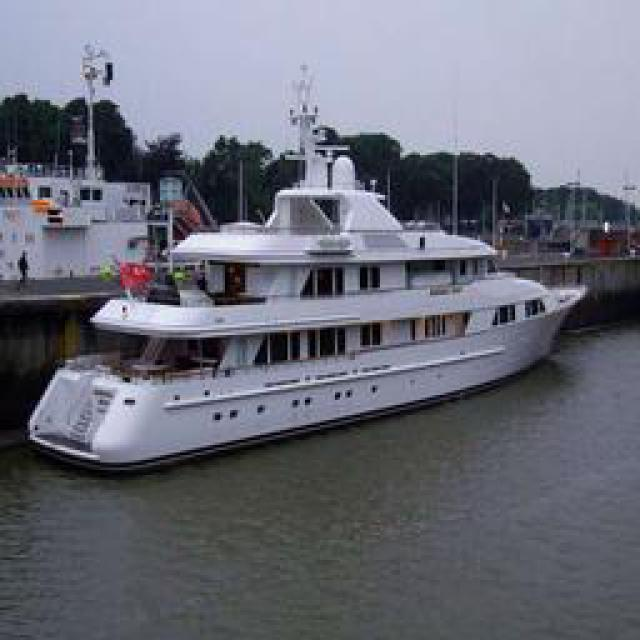Ship: (30, 105, 580, 483)
